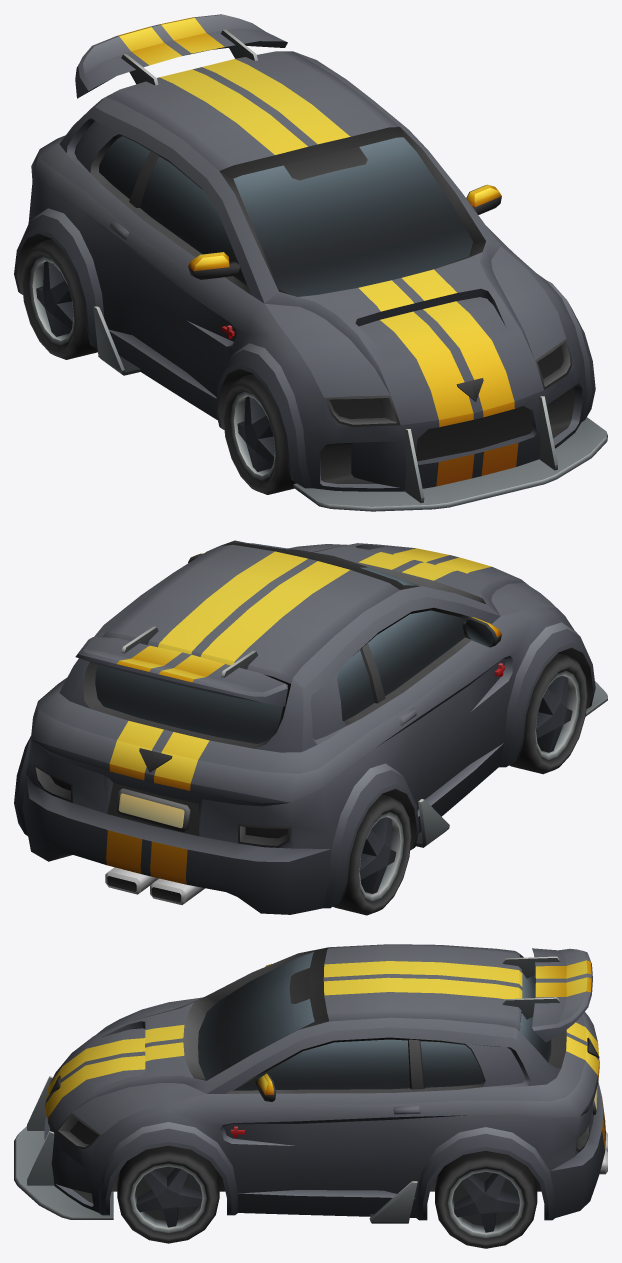
Rendered from Car.fbx.
3 renders of one model, top to bottom at view 1: azimuth 30°, elevation 25°; view 2: azimuth 150°, elevation 25°; view 3: azimuth 270°, elevation 25°, orthographic. The views are drawn at different scales.
Parts seen in each view (by area): view 1: polySurface499_Car_7D_D2_0.001, polySurface658_Car_7D_D2_0.001, polySurface636_Car_7D_D2_0.001; view 2: polySurface499_Car_7D_D2_0.001, polySurface636_Car_7D_D2_0.001, polySurface658_Car_7D_D2_0.001; view 3: polySurface499_Car_7D_D2_0.001, polySurface647_Car_7D_D2_0.001, polySurface625_Car_7D_D2_0.001.
Boxes of the visible parts, x1,y1,x2,y2 form: polySurface499_Car_7D_D2_0.001: (14,14,607,511); polySurface658_Car_7D_D2_0.001: (21,239,97,359); polySurface636_Car_7D_D2_0.001: (223,374,296,494); polySurface499_Car_7D_D2_0.001: (14,540,607,914); polySurface636_Car_7D_D2_0.001: (509,653,587,774); polySurface658_Car_7D_D2_0.001: (333,794,411,915); polySurface499_Car_7D_D2_0.001: (14,944,607,1223); polySurface647_Car_7D_D2_0.001: (435,1151,537,1248); polySurface625_Car_7D_D2_0.001: (117,1145,219,1243).
Bounding box in the file's own units: 0.268 × 0.1876 × 0.4878.
1 material, 1 textured.
